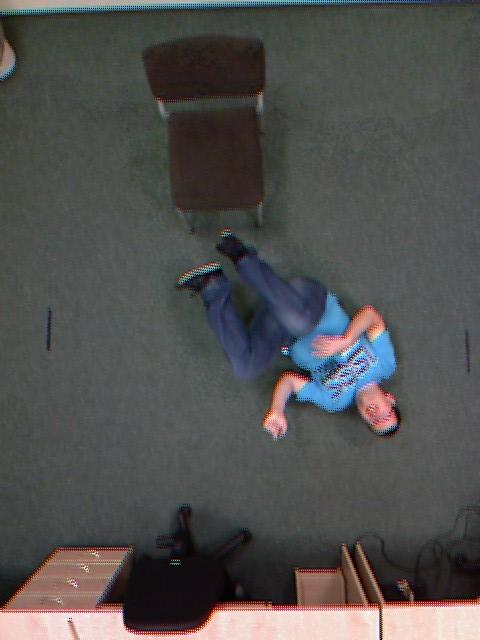fall: (203, 180, 372, 496)
